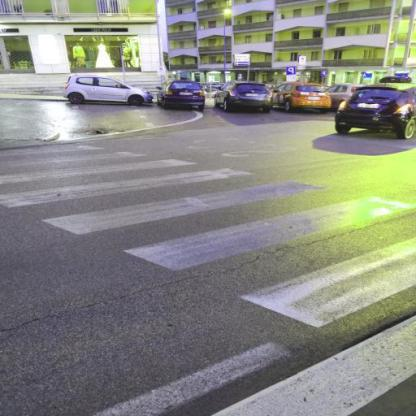crosswalk: (34, 170, 416, 285)
